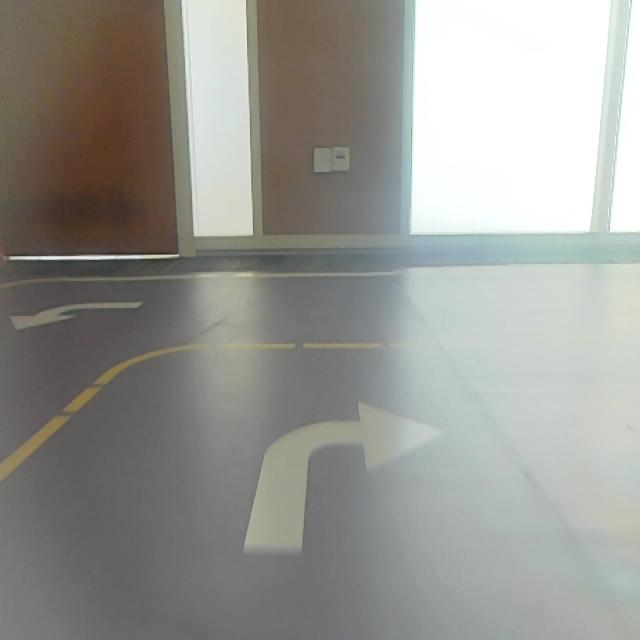left_lane: (1, 361, 122, 488)
